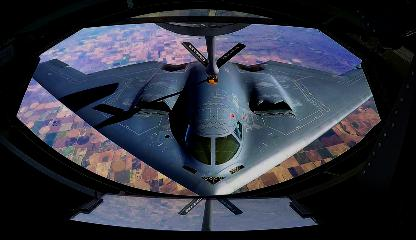B1: (32, 56, 374, 196)
